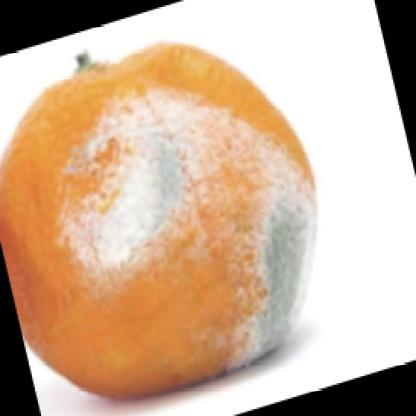rotten_orange: (1, 31, 326, 400)
